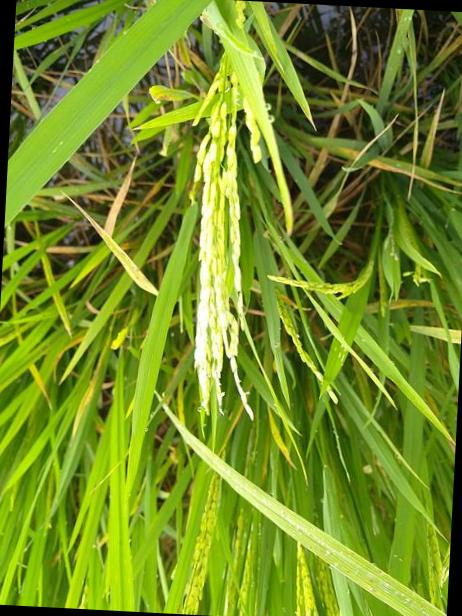Leaf Streak: (163, 404, 446, 616)
